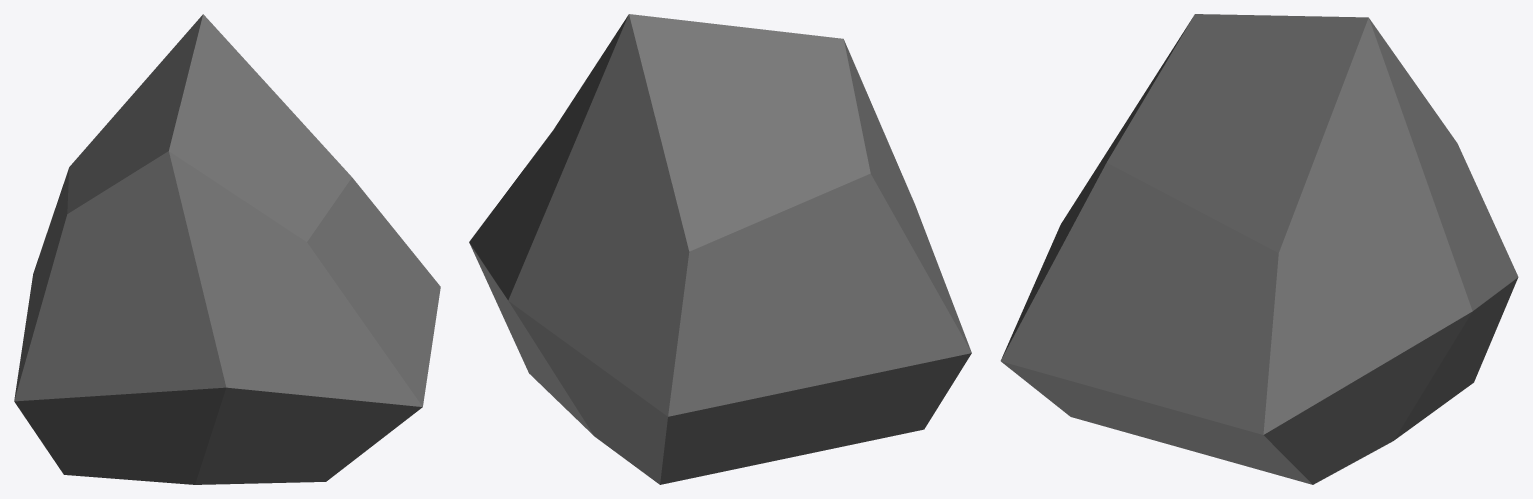
The model's file is Rock.gltf.
The picture shows the model from 3 angles, left to right: view 1: azimuth 30°, elevation 25°; view 2: azimuth 150°, elevation 25°; view 3: azimuth 270°, elevation 25°; orthographic projection. The views are drawn at different scales.
Visible parts, largest first — view 1: Cube.191; view 2: Cube.191; view 3: Cube.191.
Part boxes in pixels (x1,y1,x2,y2): Cube.191: [14, 14, 440, 484]; Cube.191: [469, 14, 971, 484]; Cube.191: [1000, 14, 1518, 484].
Bounding box in the file's own units: 2.2 × 1.79 × 2.03.
Materials: 1 (1 with a texture image).
